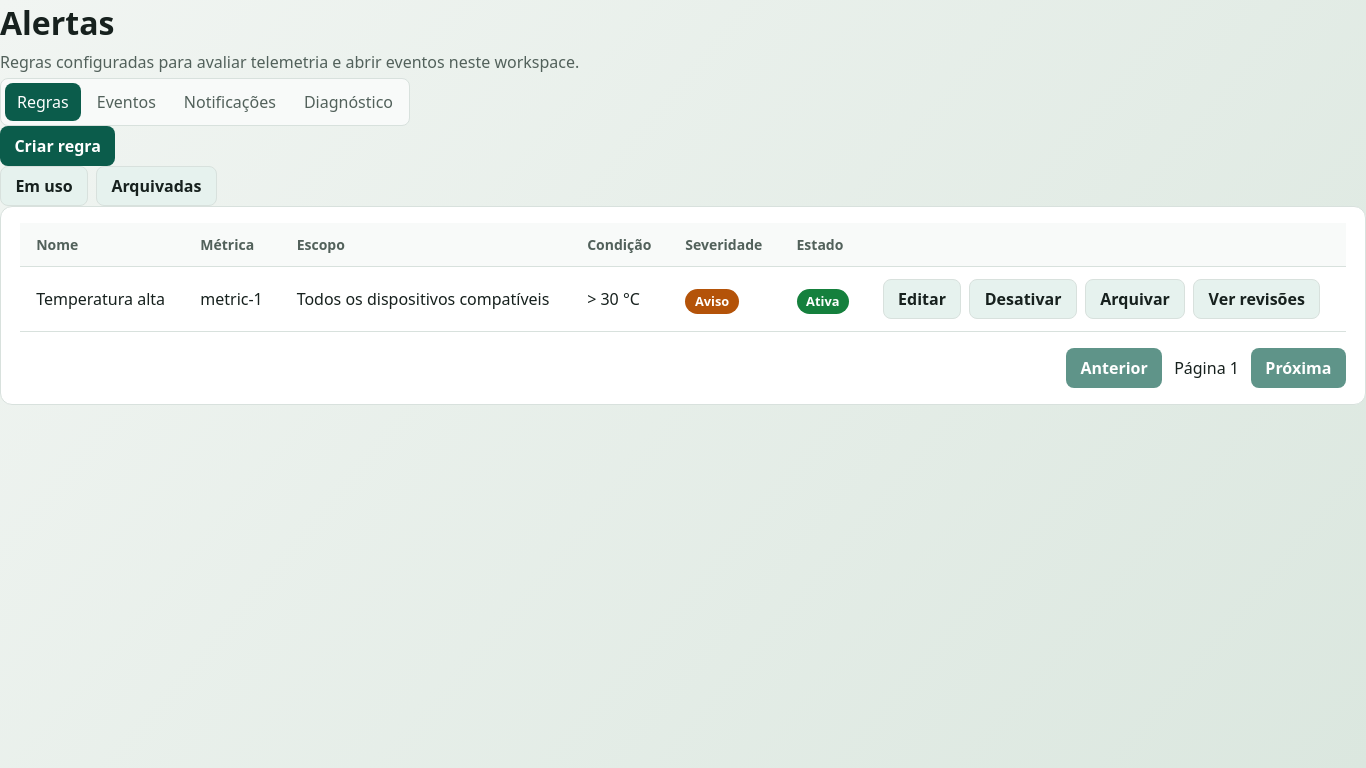
arquivamento de regras › exige confirmação, permite cancelar e envia a versão atual ao arquivar
The image size is (1366, 768).
Step 1. Click the button "Arquivar" → (1135, 299), box [1085,279,1185,319]
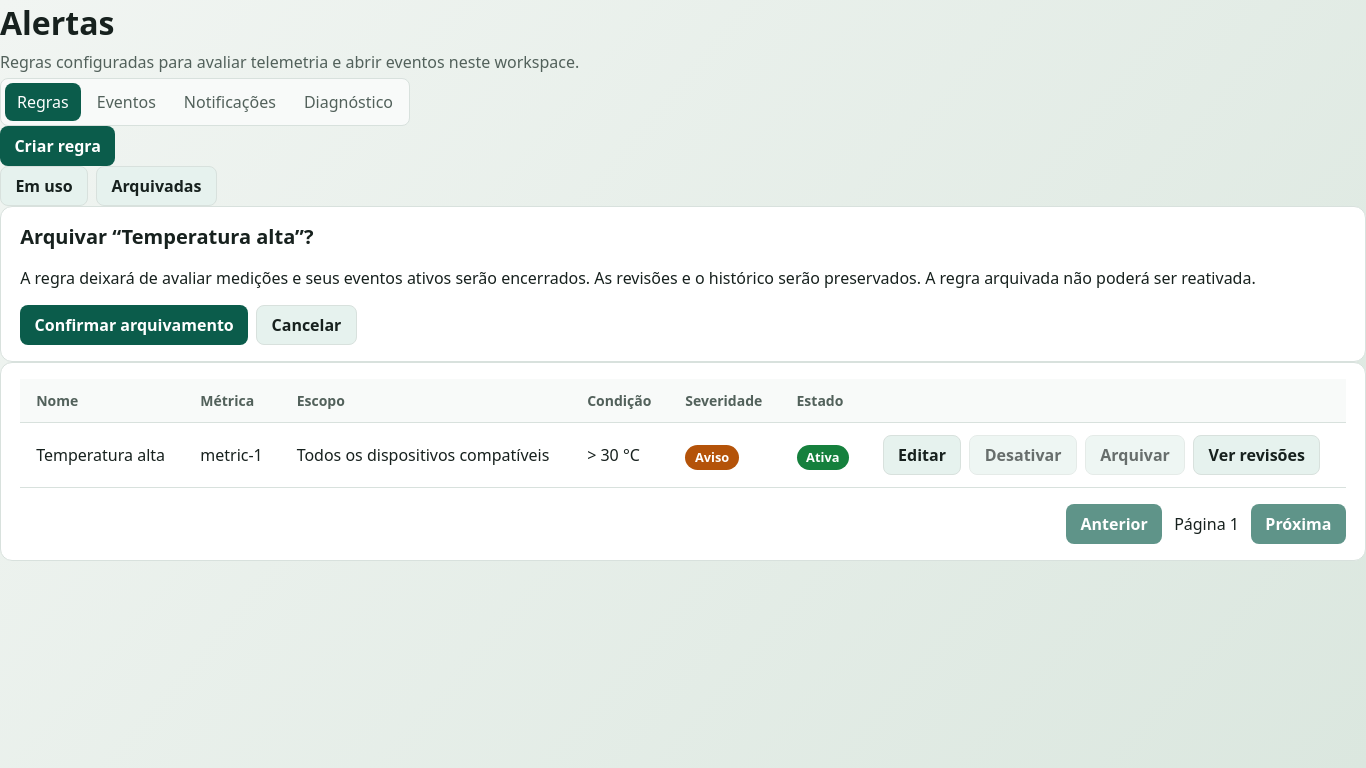
Now the dialog shows "seus eventos ativos serão encerrados", box [20,267,1256,289]
Step 2. Click the button "Cancelar" → (306, 325), box [256,305,357,345]
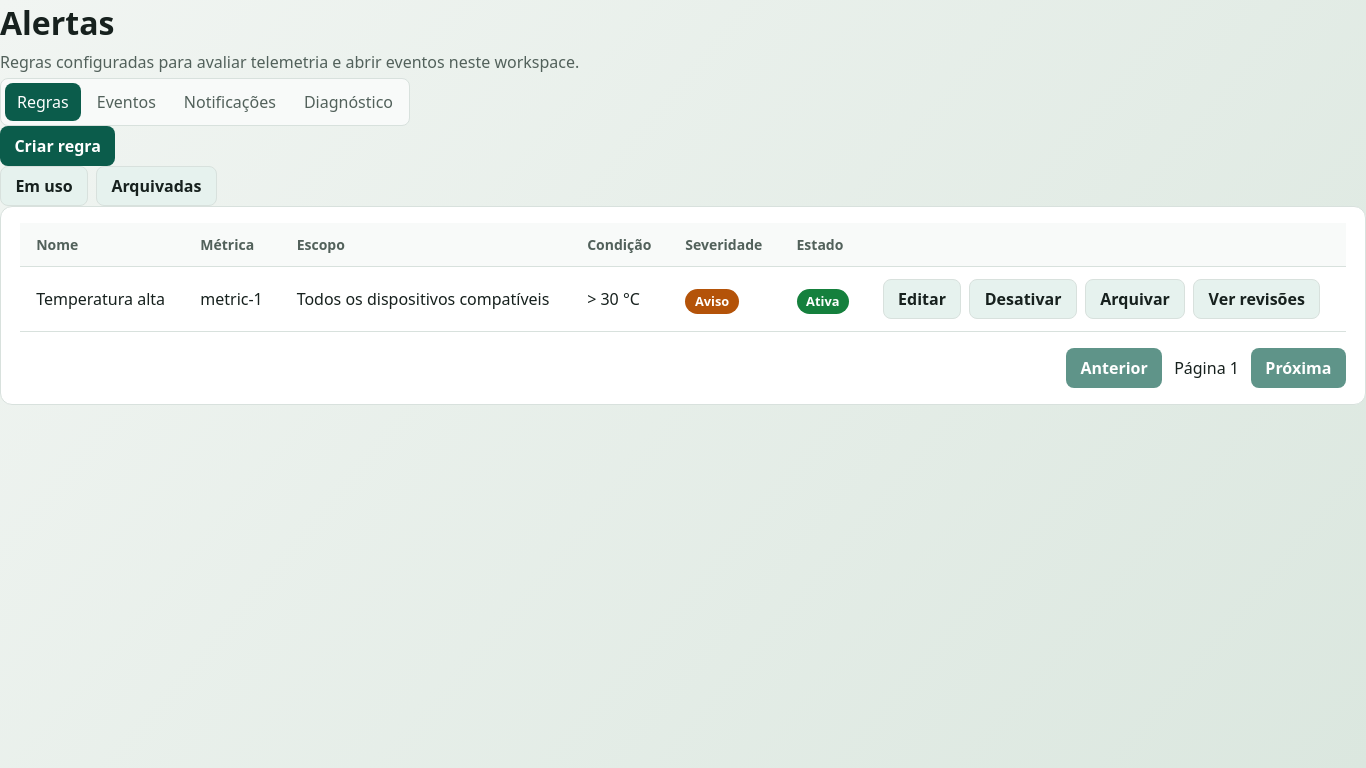
Now the dialog is gone
Step 3. Click the button "Arquivar" → (1135, 299), box [1085,279,1185,319]
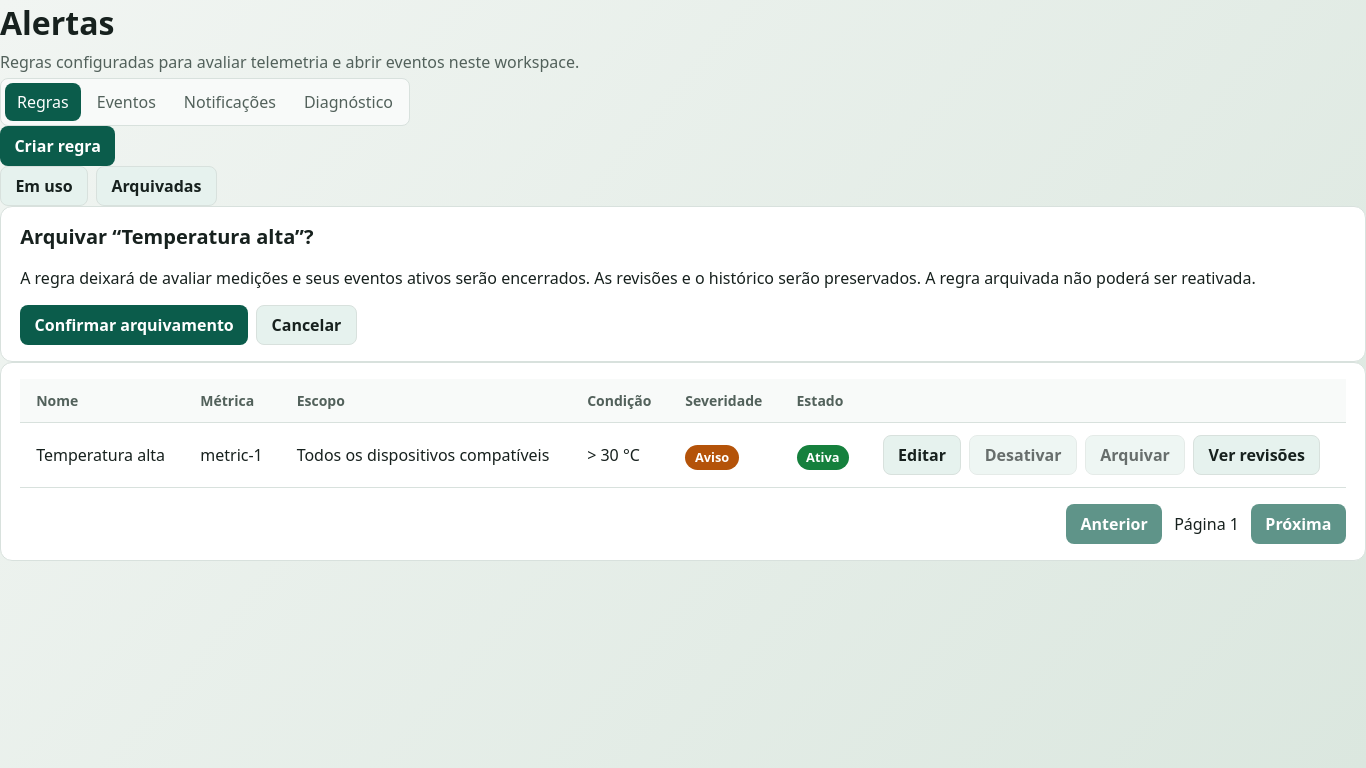
Step 4. Click the button "Confirmar arquivamento" → (134, 325), box [20,305,248,345]
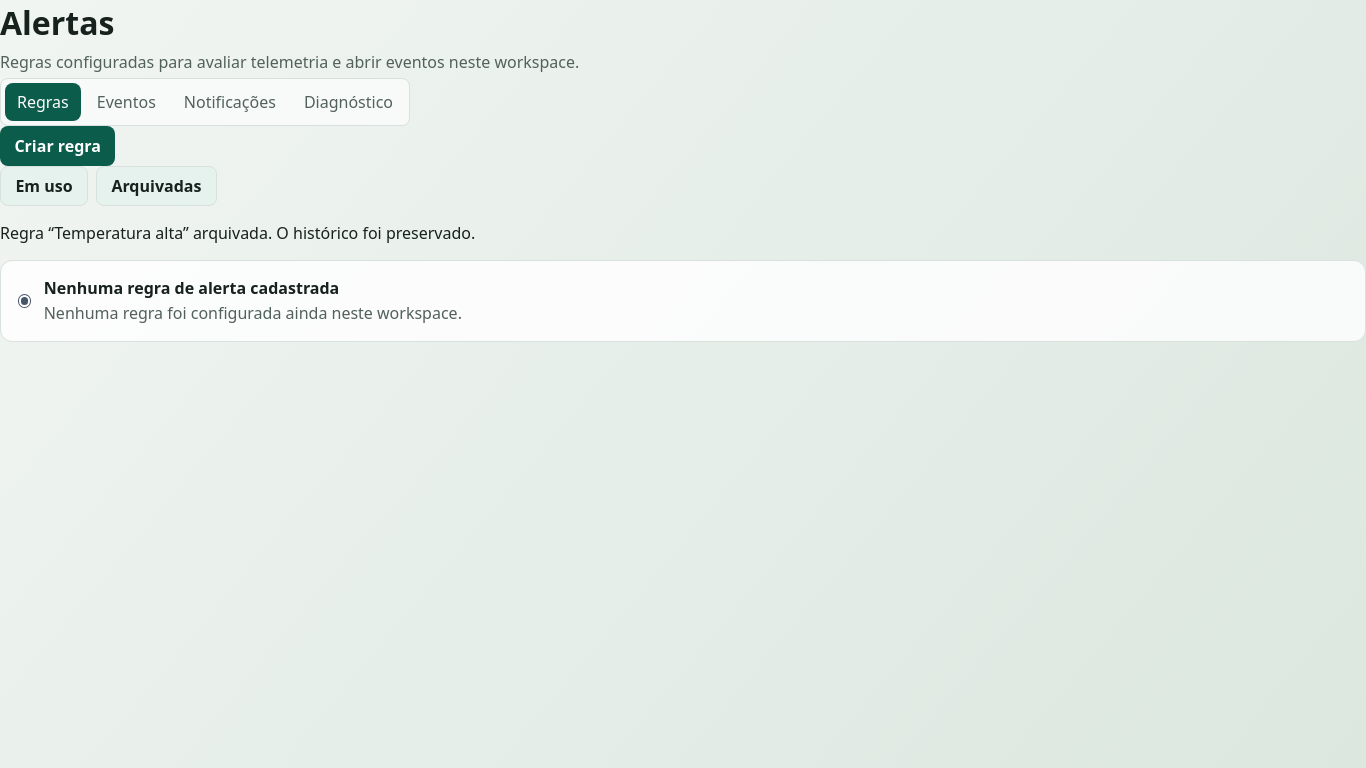
Now the message shows "histórico foi preservado", box [0,222,475,244]
Now the heading "Arquivar" is gone
